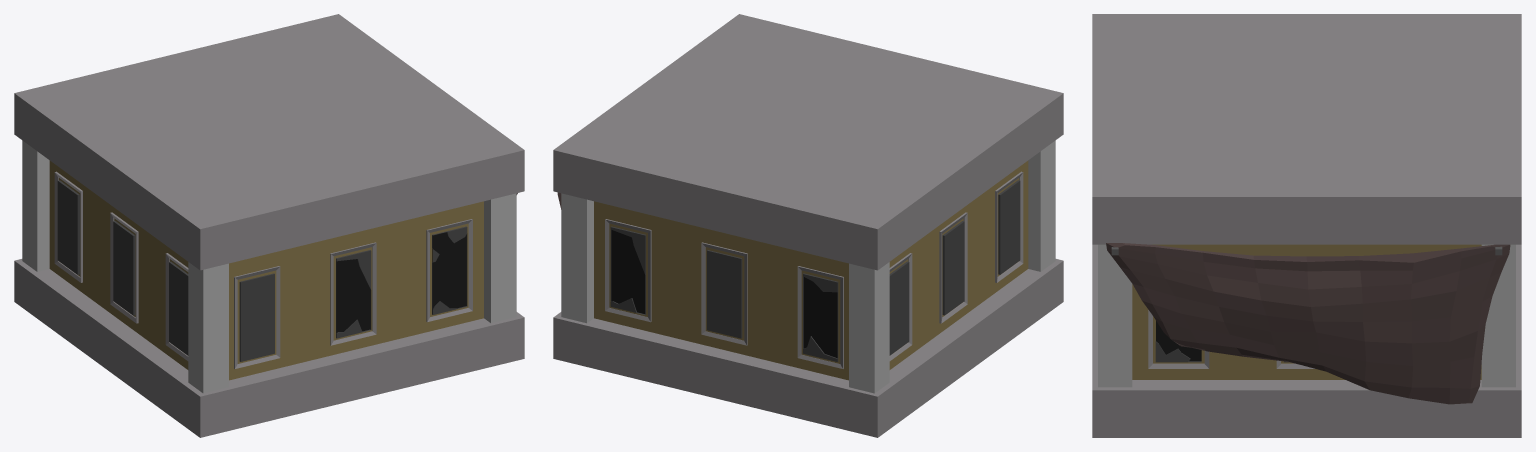
3 views of the same model, side by side, from view 1: azimuth 30°, elevation 25°; view 2: azimuth 150°, elevation 25°; view 3: azimuth 270°, elevation 25° (orthographic). The views are drawn at different scales.
Visible parts, largest first — view 1: Cube.014, Cube.002, Cube.013, Cube.016, Cube.004, Cube.020, Cube.006, Cube.015, Cube.017, Cube.010, Cube.012, Cube.011; view 2: Cube.014, Cube.002, Cube.013, Cube.017, Cube.003, Cube.019, Cube.001, Cube.018, Cube.016, Cube.010, Cube.011, Cube.012; view 3: Cube.014, Cube.021, Cube.013, Cube.002, Cube.015, Cube.018, Cube.005.
Boxes of the visible parts, x1,y1,x2,y2 form: Cube.014: [14, 14, 524, 270]; Cube.002: [49, 160, 483, 380]; Cube.013: [14, 259, 524, 437]; Cube.016: [188, 262, 228, 393]; Cube.004: [330, 242, 376, 345]; Cube.020: [426, 219, 472, 322]; Cube.006: [234, 266, 280, 368]; Cube.015: [484, 193, 516, 323]; Cube.017: [22, 140, 49, 271]; Cube.010: [110, 212, 138, 323]; Cube.012: [54, 171, 82, 282]; Cube.011: [165, 253, 188, 360]; Cube.014: [553, 14, 1063, 270]; Cube.002: [594, 160, 1028, 380]; Cube.013: [553, 259, 1063, 437]; Cube.017: [849, 262, 889, 393]; Cube.003: [701, 242, 747, 345]; Cube.019: [605, 219, 651, 322]; Cube.001: [797, 266, 843, 368]; Cube.018: [561, 193, 593, 323]; Cube.016: [1028, 140, 1055, 271]; Cube.010: [939, 212, 967, 323]; Cube.011: [995, 171, 1023, 282]; Cube.012: [889, 253, 912, 360]; Cube.014: [1092, 14, 1521, 244]; Cube.021: [1106, 243, 1510, 404]; Cube.013: [1092, 244, 1521, 437]; Cube.002: [1132, 244, 1481, 379]; Cube.015: [1098, 244, 1132, 387]; Cube.018: [1481, 244, 1515, 387]; Cube.005: [1148, 310, 1209, 368].
Size of the model in its own units: 13.76 by 8.16 by 13.17.
